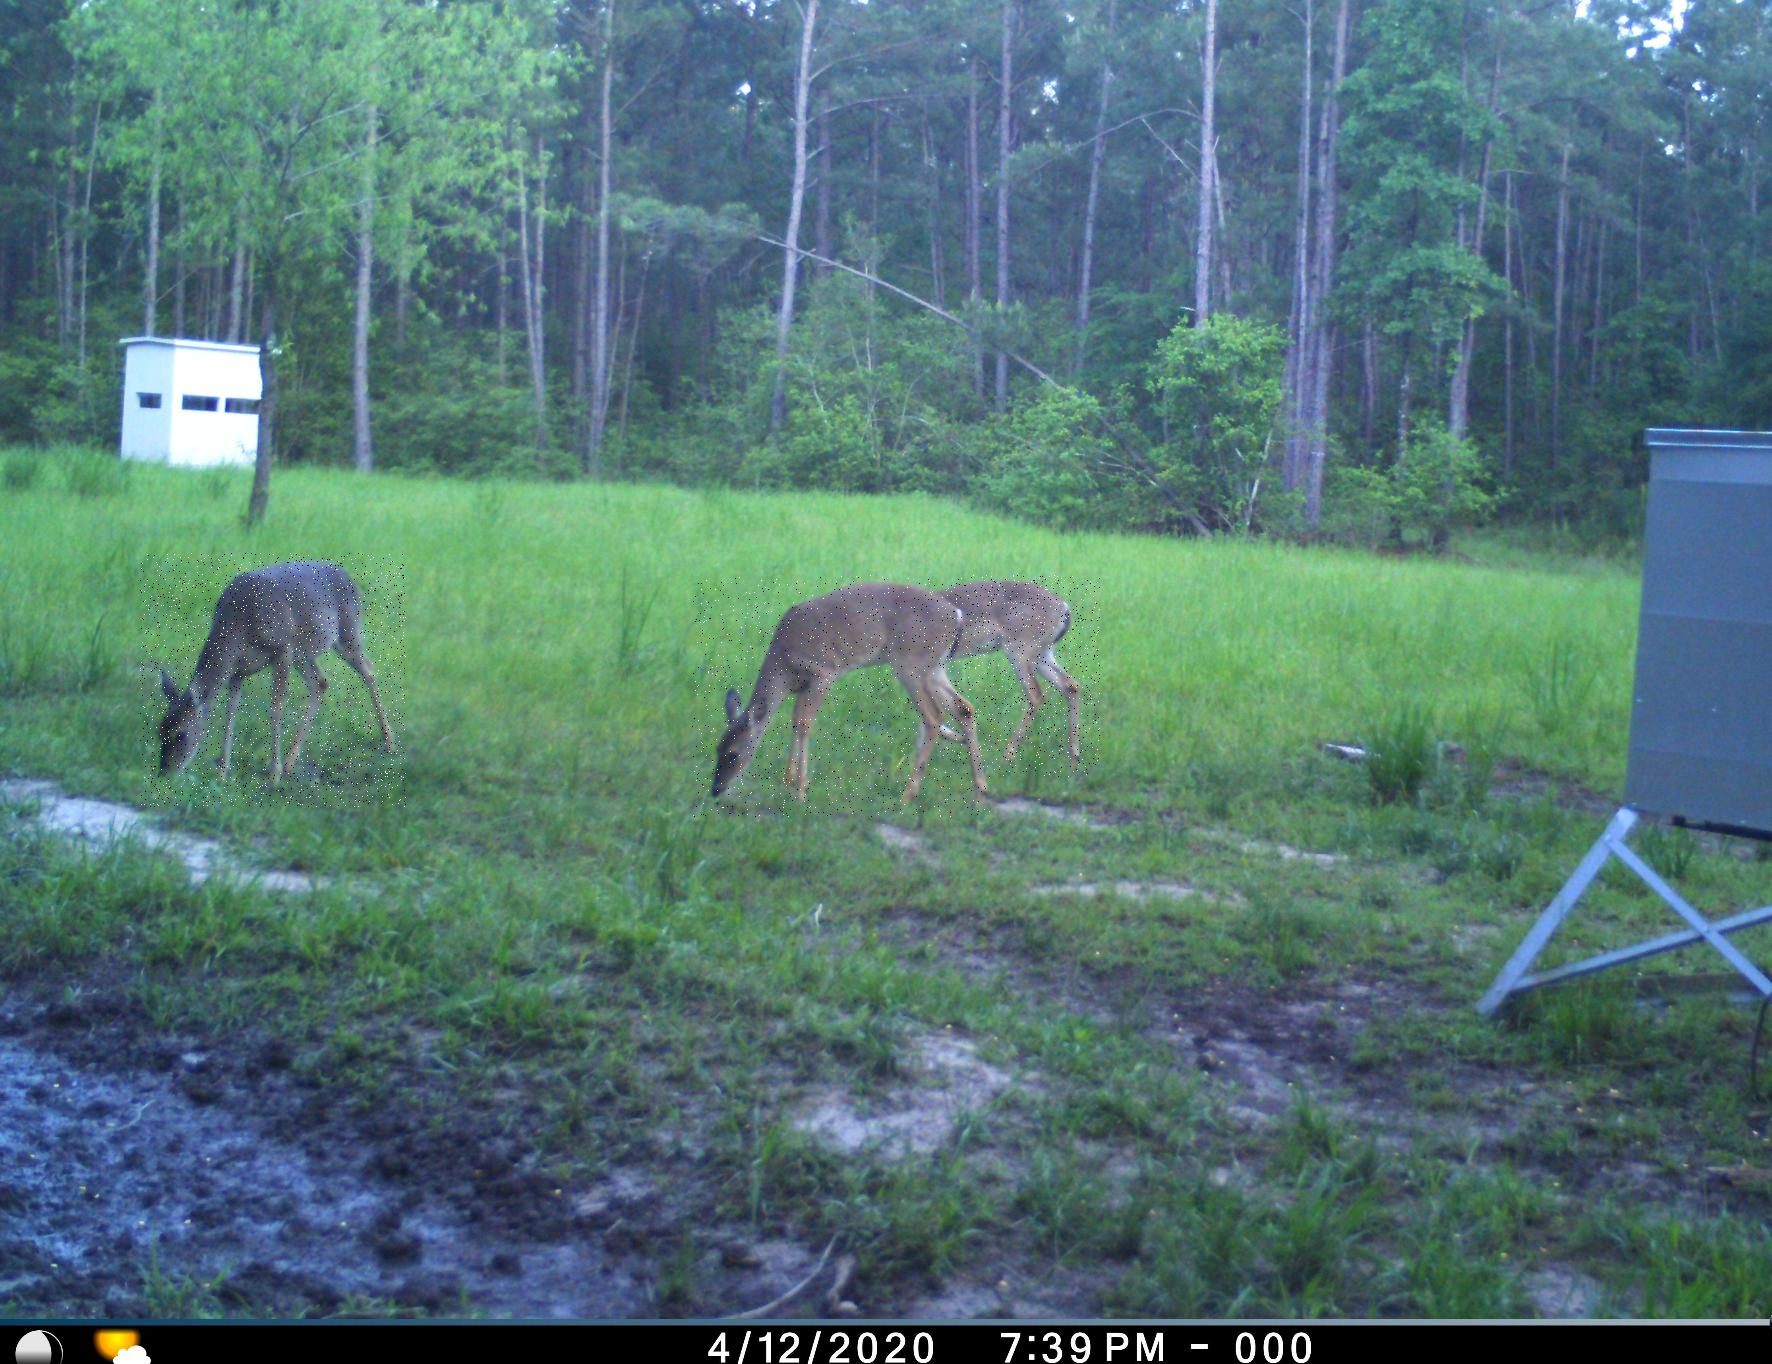Deer: (692, 575, 990, 817), (140, 553, 407, 807), (947, 575, 1100, 777)
